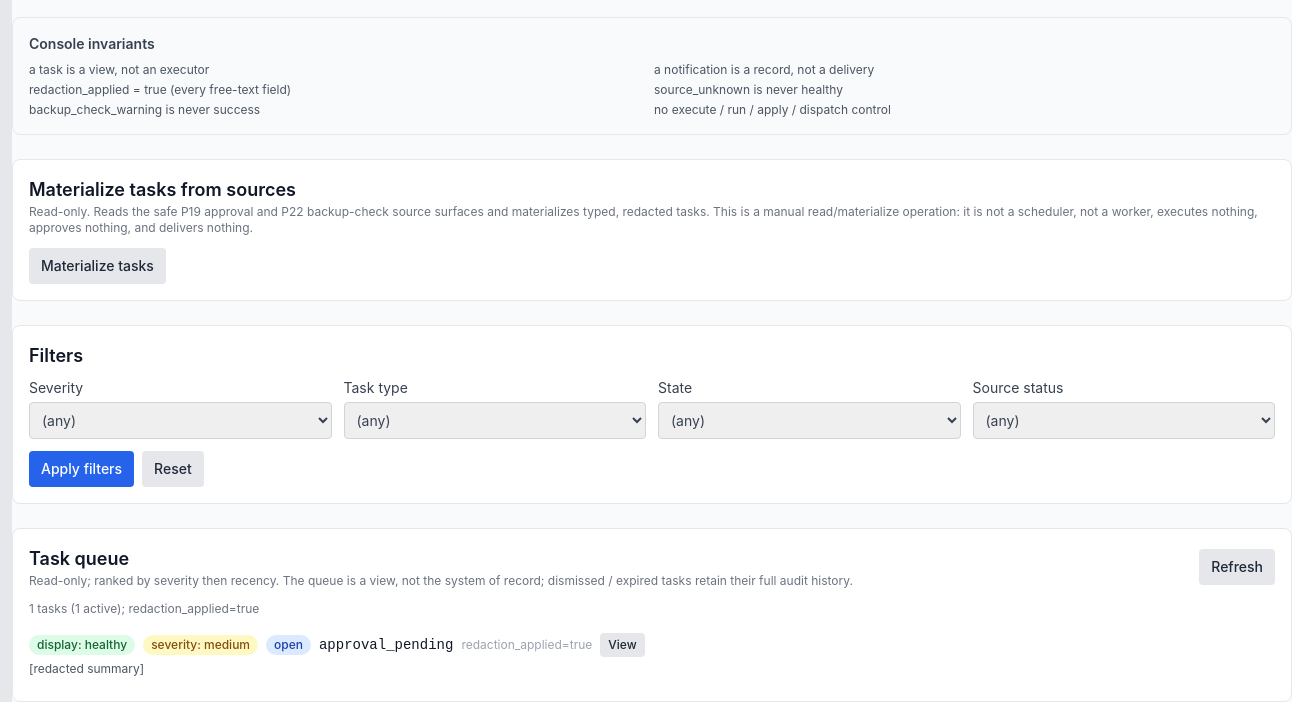
Test: PlatformOperatorTasksPage › acknowledge submits to the acknowledge endpoint with no actor in the body
The image size is (1292, 702).
(page scrolled)
Expected: the list item with test id "ot-queue-item" is shown, [29,633,645,676]
Click the button with test id "ot-view-btn" at (622, 645), box [600,633,645,657]
(page scrolled)
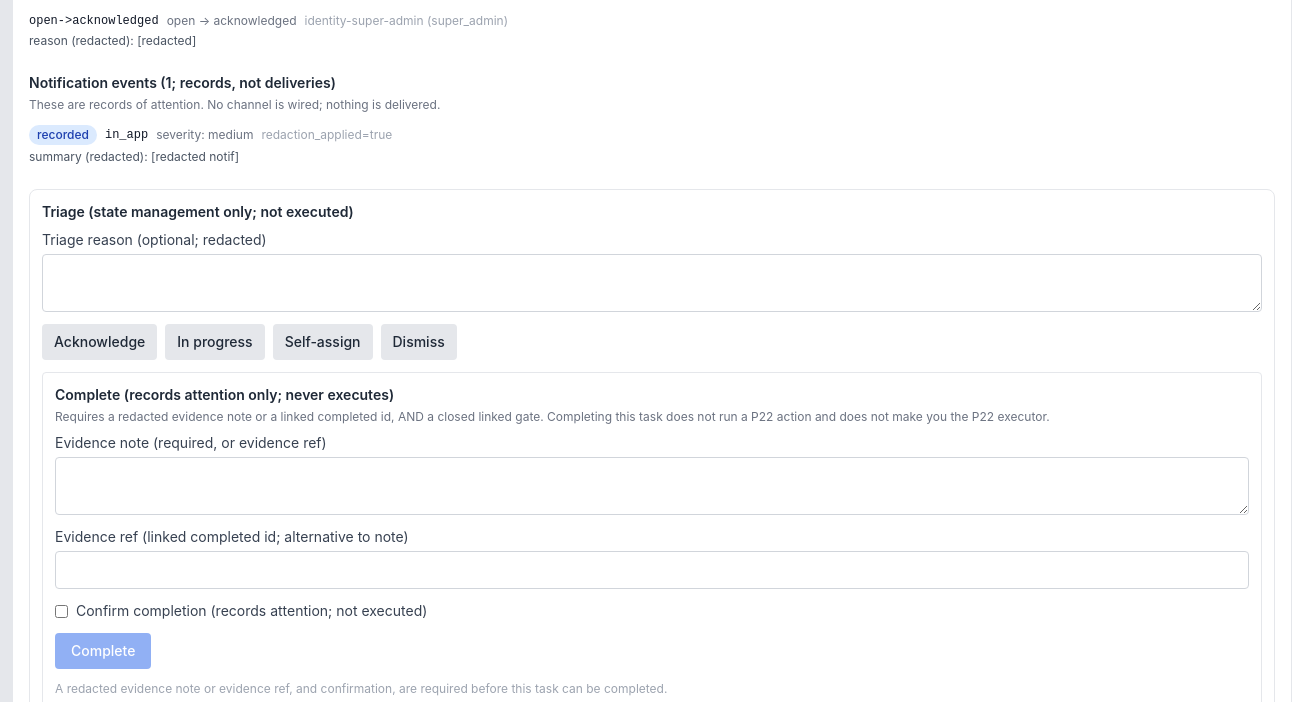
Click the button with test id "ot-ack-btn" at (100, 342), box [42,324,157,360]
(page scrolled)
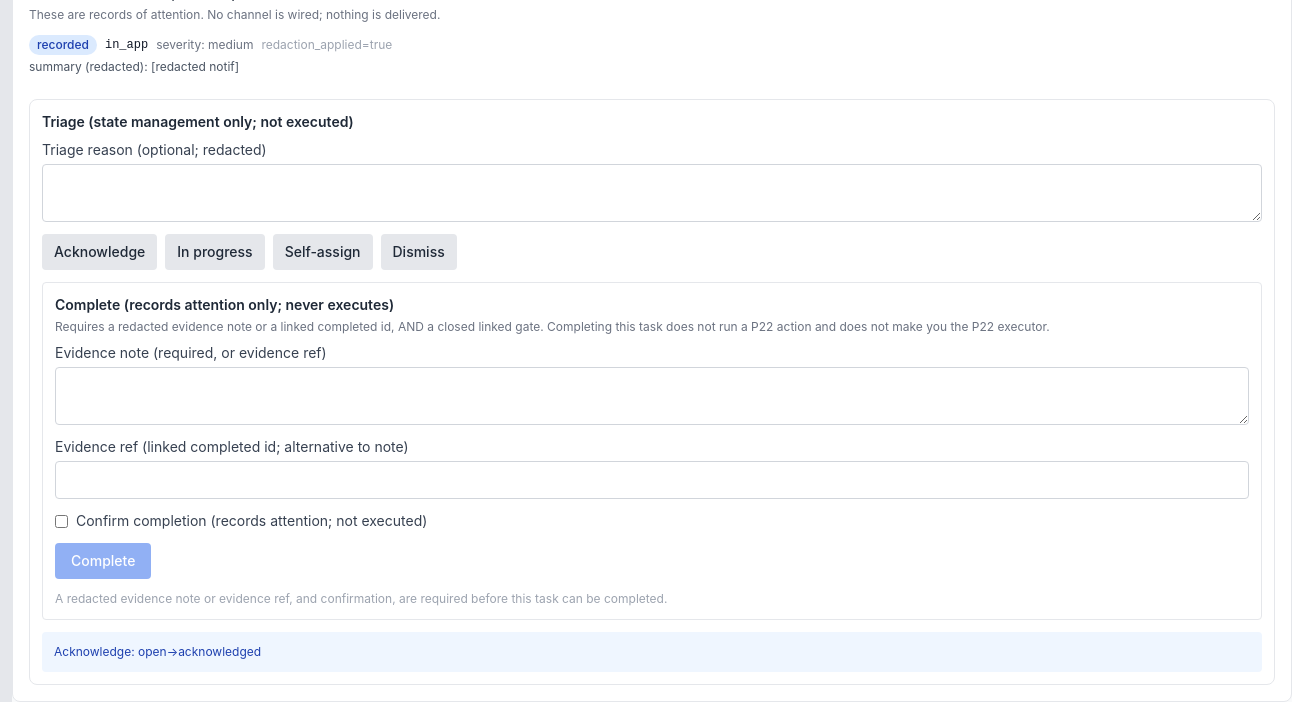
Expected: the text with test id "ot-transition-ok" shows "Acknowledge", [54,644,261,659]
